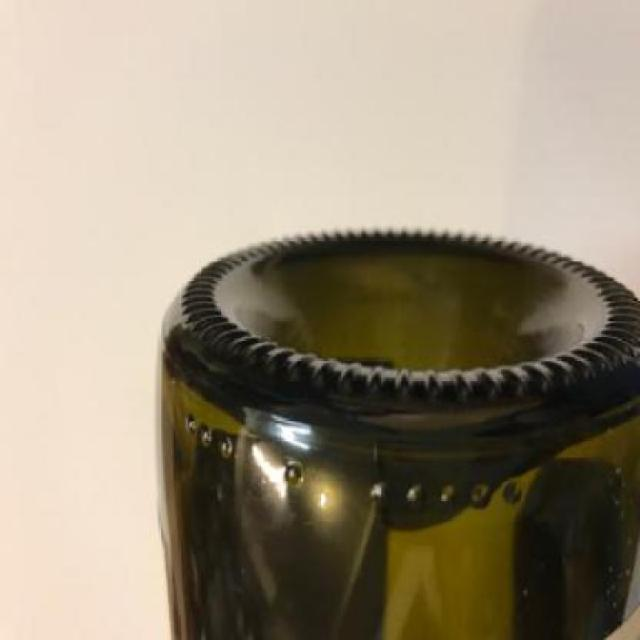kaca: (157, 227, 638, 638)
